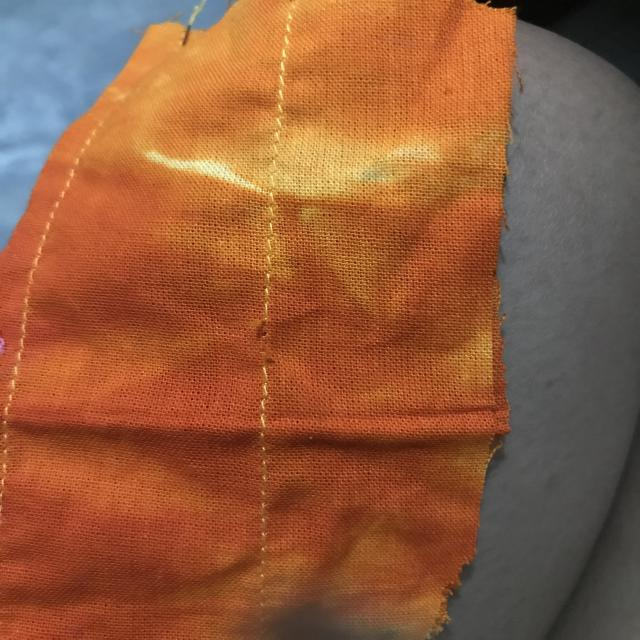broken: (251, 288, 299, 382)
good: (257, 176, 297, 257)
